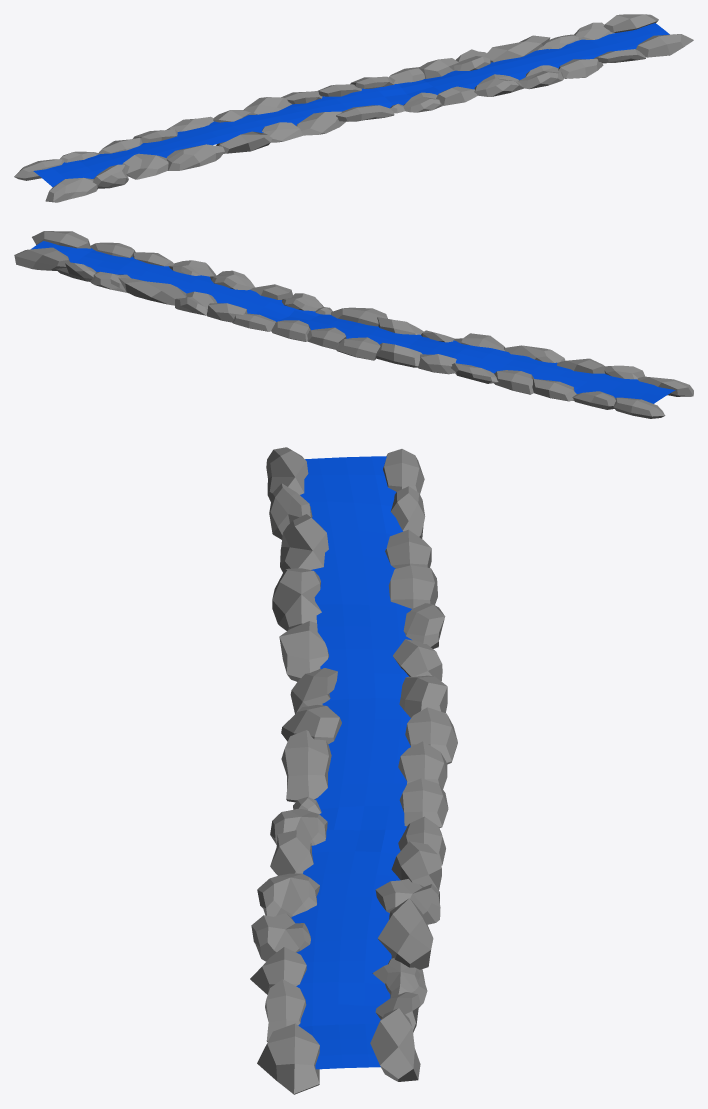
The model's file is river.fbx.
The picture shows the model from 3 angles, top to bottom: view 1: azimuth 30°, elevation 25°; view 2: azimuth 150°, elevation 25°; view 3: azimuth 270°, elevation 25°; orthographic projection. The views are drawn at different scales.
Visible parts, largest first — view 1: rock, Plane; view 2: rock, Plane; view 3: rock, Plane.
Boxes of the visible parts, x1,y1,x2,y2 form: rock: (14,14,693,202); Plane: (33,23,669,187); rock: (14,231,693,418); Plane: (31,241,675,403); rock: (250,447,457,1094); Plane: (291,456,411,1069).
Size of the model in its own units: 2869 by 79.4 by 396.
